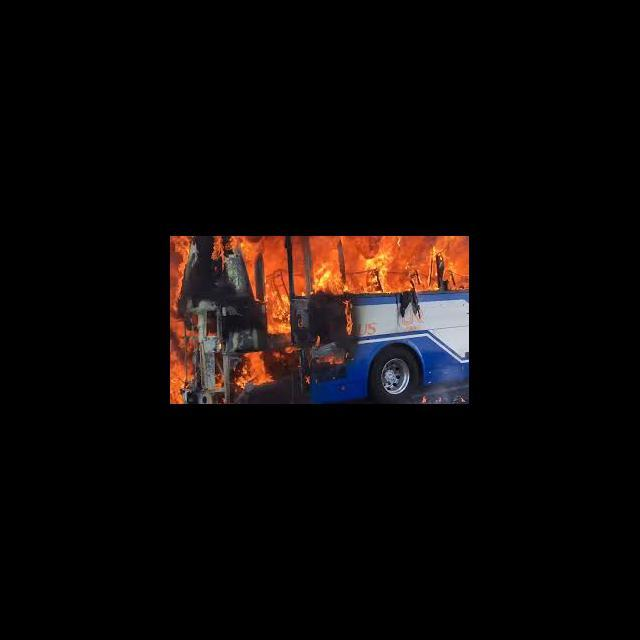Fire: (170, 236, 310, 403), (310, 236, 470, 292), (315, 337, 345, 365), (341, 296, 356, 336)
